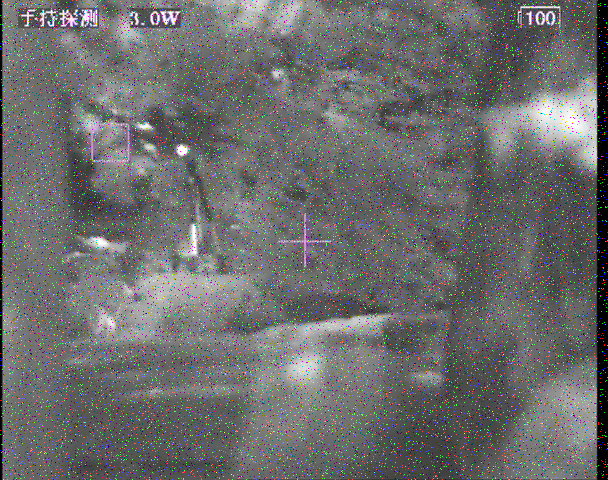my: (175, 143, 187, 157)
